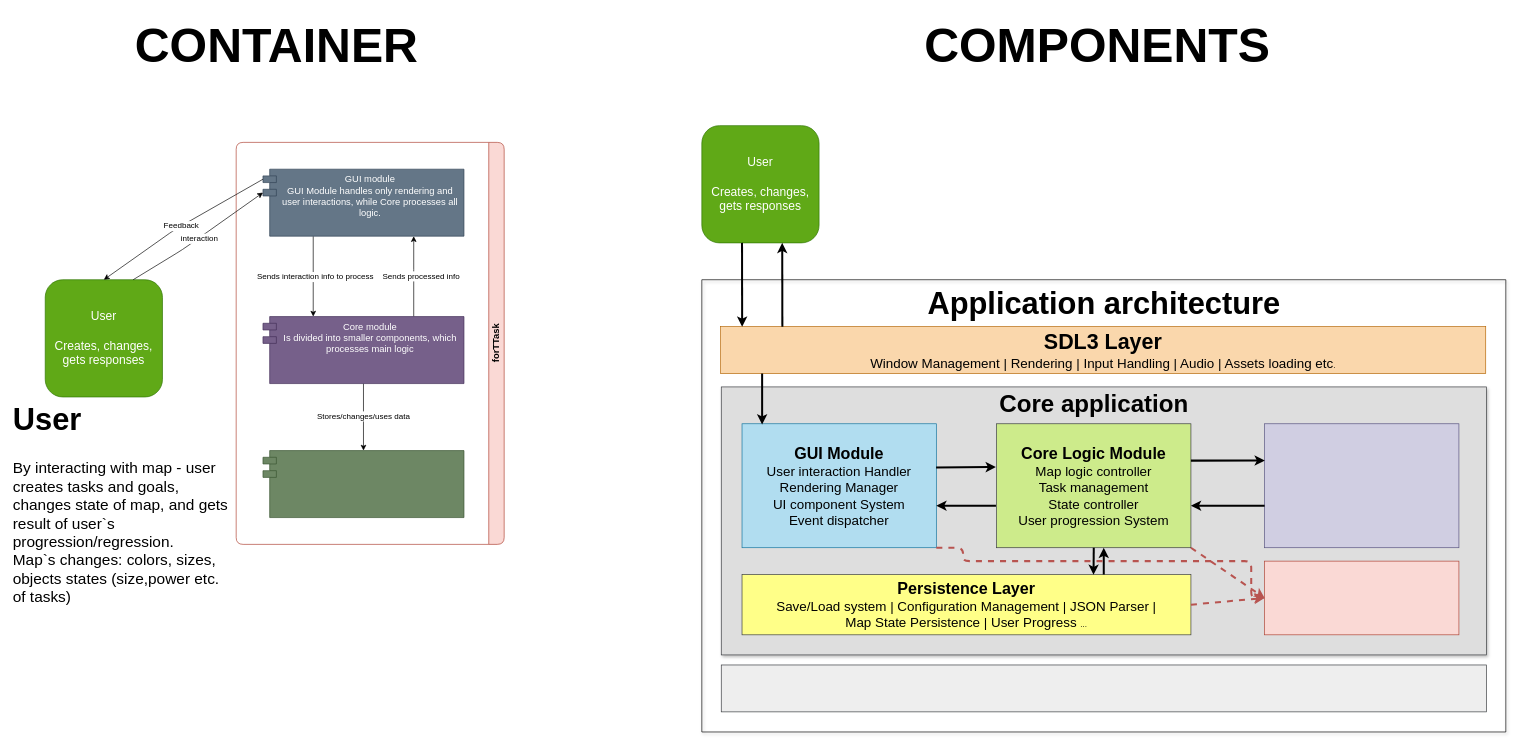
Some shapes in this 1522 by 748 pixel diagram are drawn without their labels. Each missing label, with the centre of its shape:
"Building (CMake) Main Target | Module Libraries | Configs | Tests .. ." goes at [1103,688].
"Error Handling Exception Manager Logging System Recovery Mechanisms" goes at [1361,597].
"Persistence Layer Defines how data is stored, downloaded, used etc." goes at [363,484].
"Resource Manager Texture Management Audio Resources Assets Memory Allocation" goes at [1361,485].
